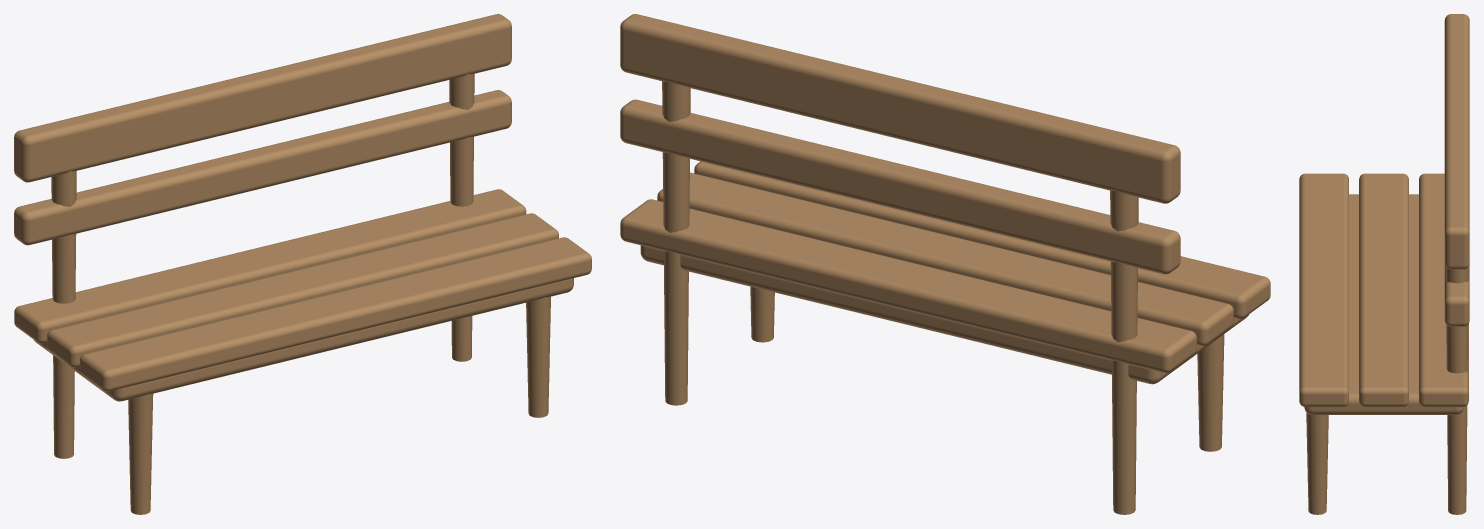
File: bench.glb
3 renders of one model, left to right at view 1: azimuth 30°, elevation 25°; view 2: azimuth 150°, elevation 25°; view 3: azimuth 270°, elevation 25°, orthographic. The views are drawn at different scales.
Visible parts, largest first — view 1: upper-back-slat, seat-slat-0-18, lower-back-slat, seat-slat-0, seat-slat--0-18, bench-underframe, continuous-rear-post--1, continuous-rear-post-1, front-leg--1, front-leg-1; view 2: upper-back-slat, seat-slat--0-18, lower-back-slat, seat-slat-0, seat-slat-0-18, bench-underframe, continuous-rear-post-1, continuous-rear-post--1, front-leg--1, front-leg-1; view 3: seat-slat-0-18, seat-slat-0, seat-slat--0-18, upper-back-slat, bench-underframe, continuous-rear-post-1, front-leg-1, lower-back-slat.
Boxes of the visible parts, x1,y1,x2,y2 form: upper-back-slat: (14, 14, 511, 182); seat-slat-0-18: (80, 237, 591, 391); lower-back-slat: (14, 90, 511, 245); seat-slat-0: (47, 213, 558, 367); seat-slat--0-18: (14, 189, 526, 343); bench-underframe: (33, 278, 573, 401); continuous-rear-post--1: (51, 171, 76, 458); continuous-rear-post-1: (449, 74, 474, 361); front-leg--1: (128, 394, 153, 514); front-leg-1: (526, 296, 550, 417); upper-back-slat: (620, 14, 1180, 203); seat-slat--0-18: (620, 199, 1196, 373); lower-back-slat: (620, 99, 1180, 274); seat-slat-0: (657, 172, 1233, 346); seat-slat-0-18: (694, 161, 1270, 318); bench-underframe: (640, 245, 1248, 384); continuous-rear-post-1: (662, 81, 690, 405); continuous-rear-post--1: (1110, 190, 1138, 514); front-leg--1: (1197, 334, 1224, 451); front-leg-1: (750, 286, 774, 342); seat-slat-0-18: (1299, 173, 1348, 406); seat-slat-0: (1359, 173, 1408, 406); seat-slat--0-18: (1419, 173, 1468, 406); upper-back-slat: (1444, 14, 1469, 269); bench-underframe: (1304, 194, 1463, 414); continuous-rear-post-1: (1445, 266, 1468, 514); front-leg-1: (1306, 412, 1328, 514); lower-back-slat: (1444, 263, 1469, 326).
Bounding box in the file's own units: 1.55 × 1 × 0.5125.
